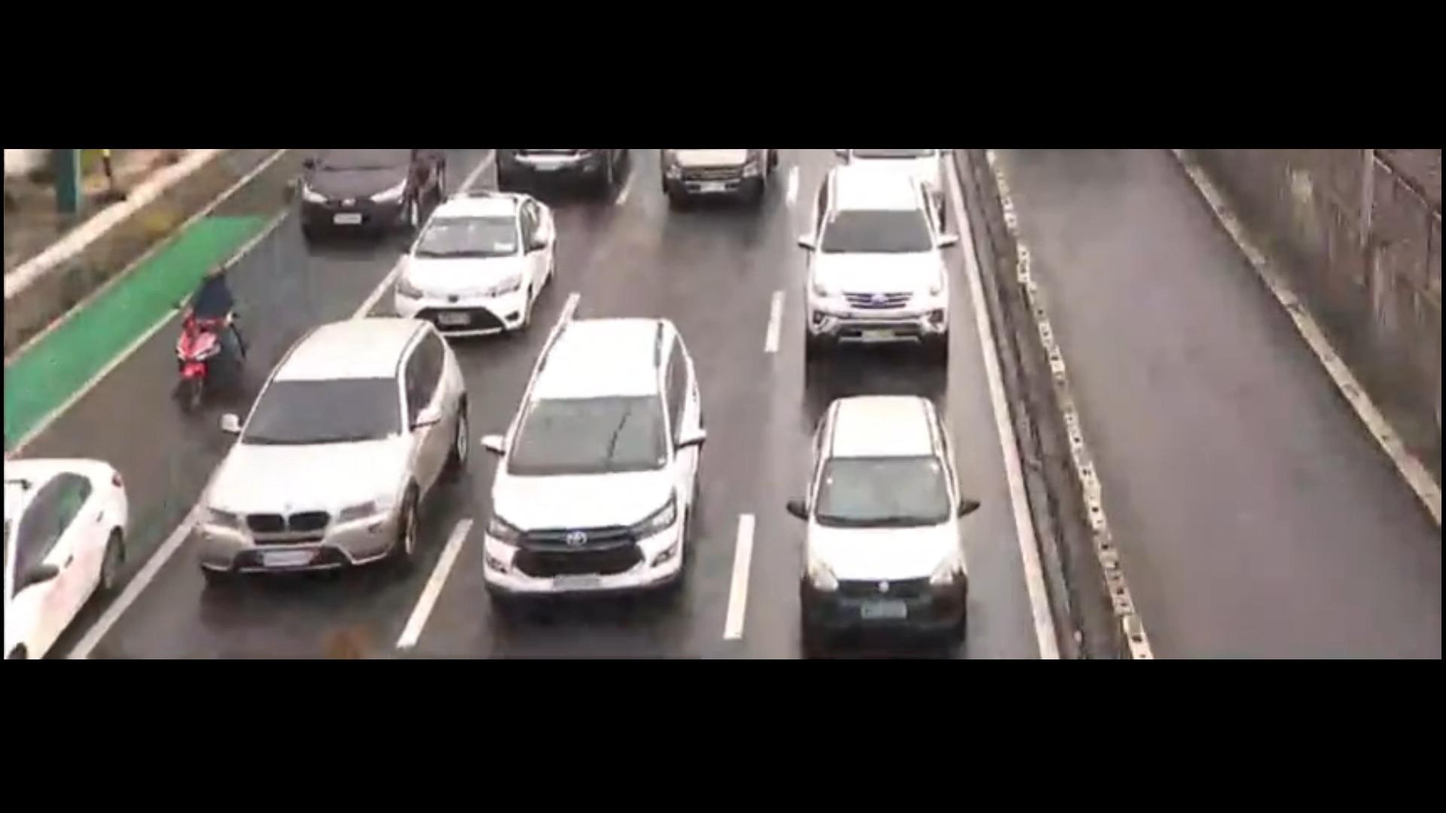Motorcycle: (166, 249, 260, 429)
SUV: (162, 303, 480, 593), (463, 307, 733, 602), (757, 157, 977, 371)
Sedan: (773, 391, 1007, 658), (387, 164, 563, 342), (0, 437, 142, 657), (281, 148, 451, 258)
